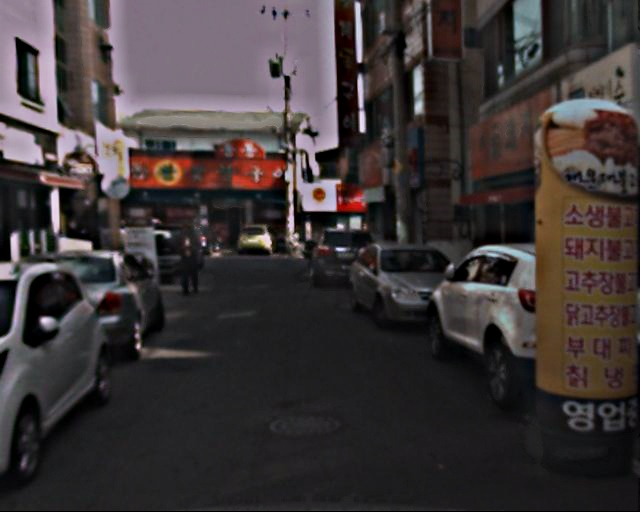person: (174, 224, 206, 297)
